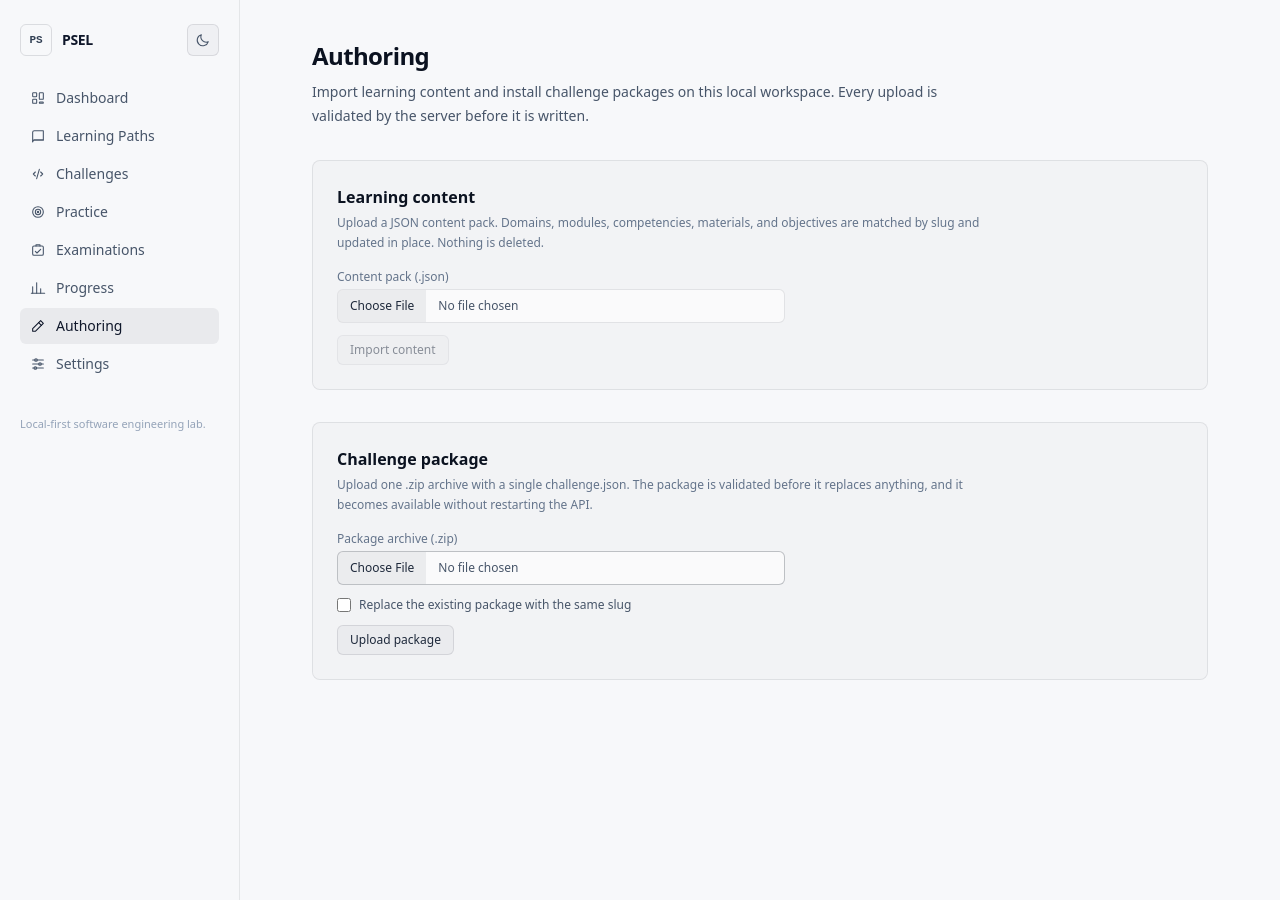
it: AuthoringPage › requests replacement when overwriting an existing package
This screenshot has width=1280, height=900.
Earlier steps of the test are not shown.
Click the checkbox labelled "Replace the existing package with the same slug": coordinates (344, 605) [337,598,351,612]
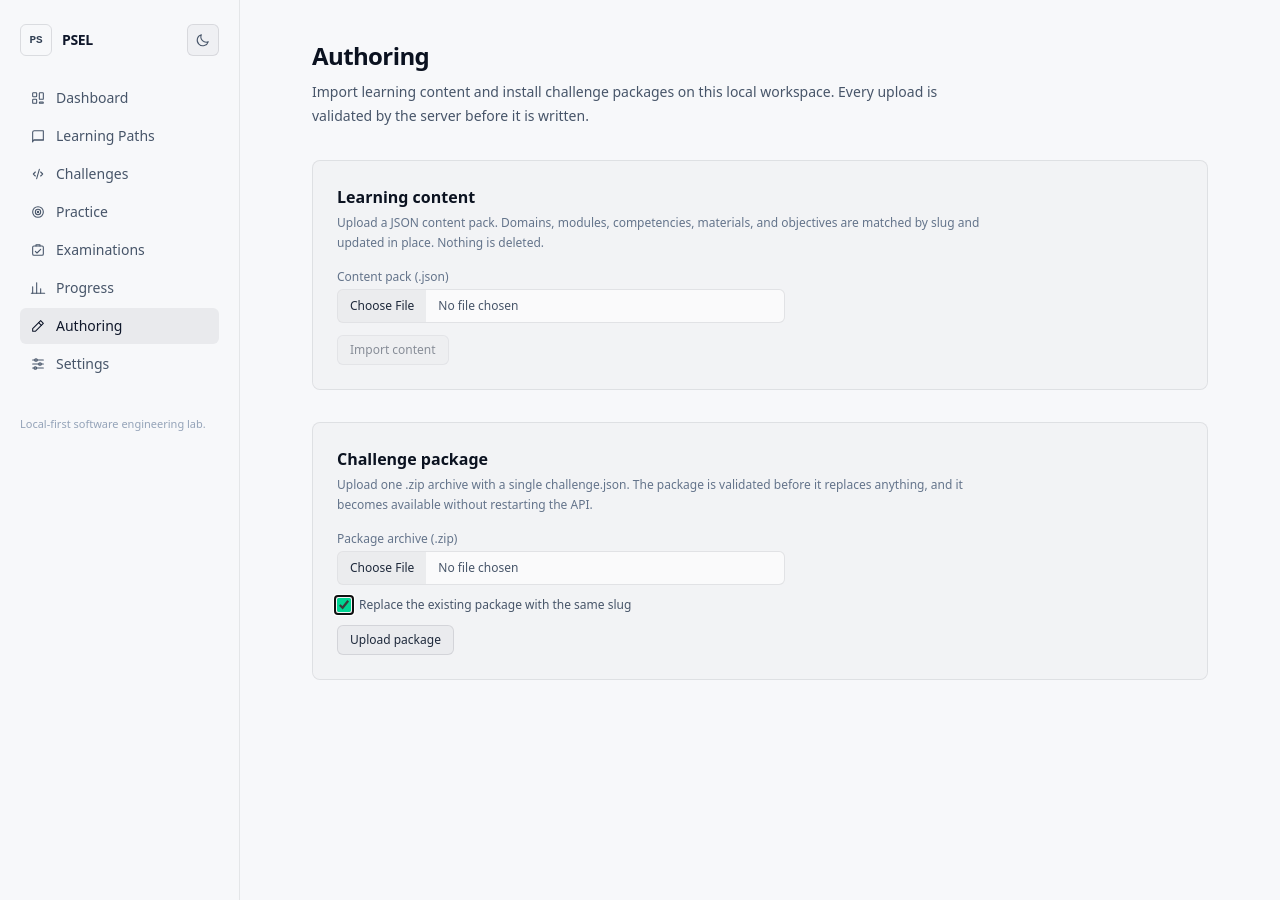
Click the button "Upload package": coordinates (395, 640) [337,625,454,655]
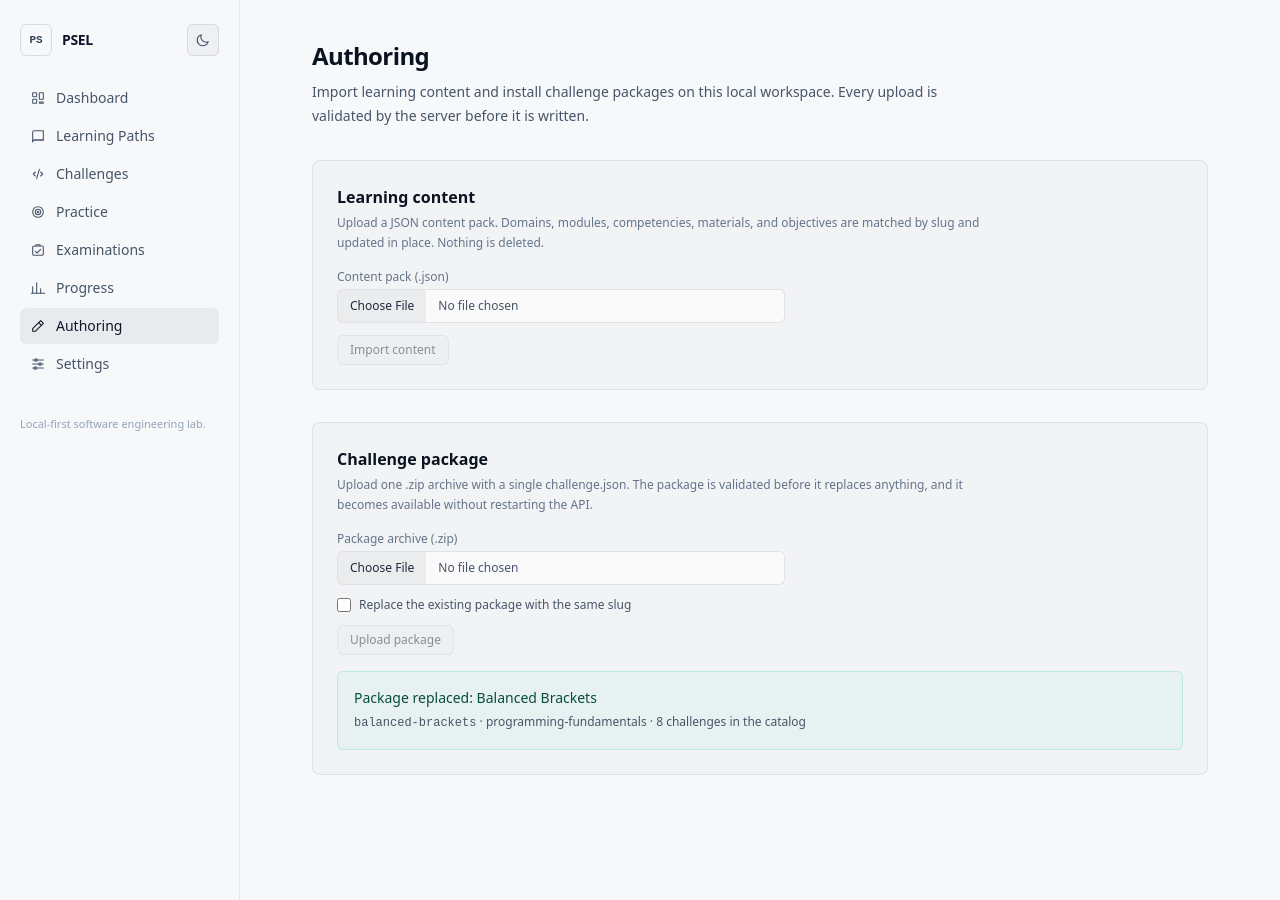
Expected: the text "Package replaced: Balanced Brackets" is shown, [354,688,597,707]
